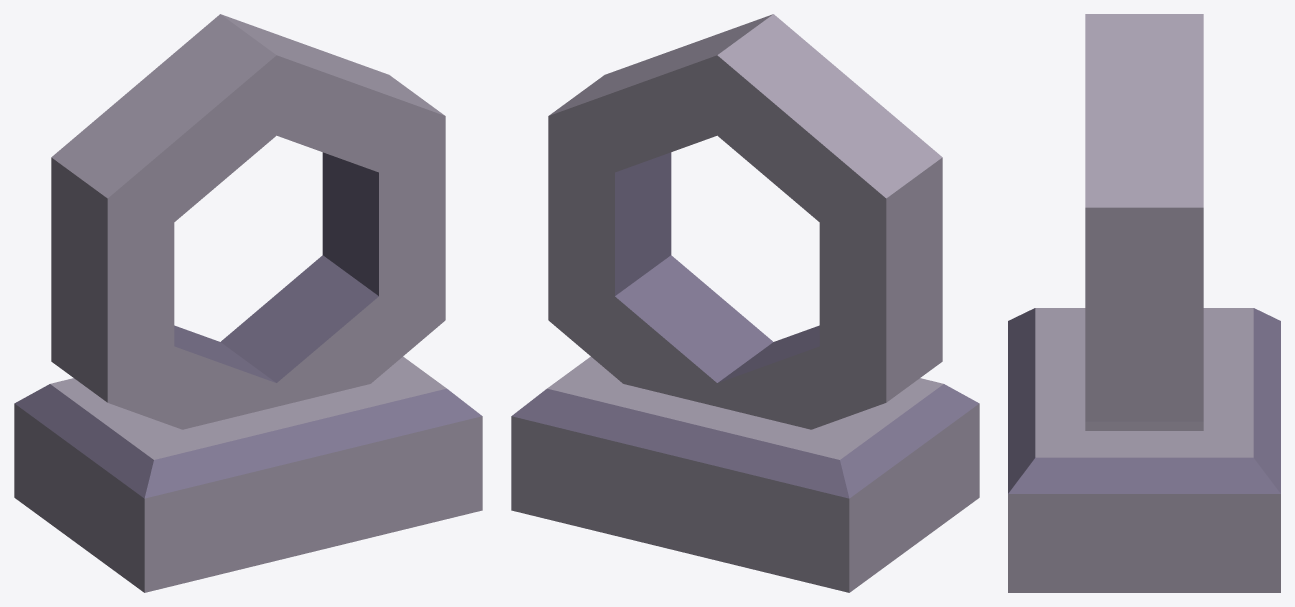
The model's file is statue_ring.glb.
The picture shows the model from 3 angles, left to right: view 1: azimuth 30°, elevation 25°; view 2: azimuth 150°, elevation 25°; view 3: azimuth 270°, elevation 25°; orthographic projection. The views are drawn at different scales.
Visible parts, largest first — view 1: statue_ring; view 2: statue_ring; view 3: statue_ring.
Part boxes in pixels (<box>): statue_ring: <box>14,14,482,592</box>; statue_ring: <box>511,14,979,592</box>; statue_ring: <box>1008,14,1280,592</box>.
Size of the model in its own units: 1.14 by 1.51 by 0.76.
